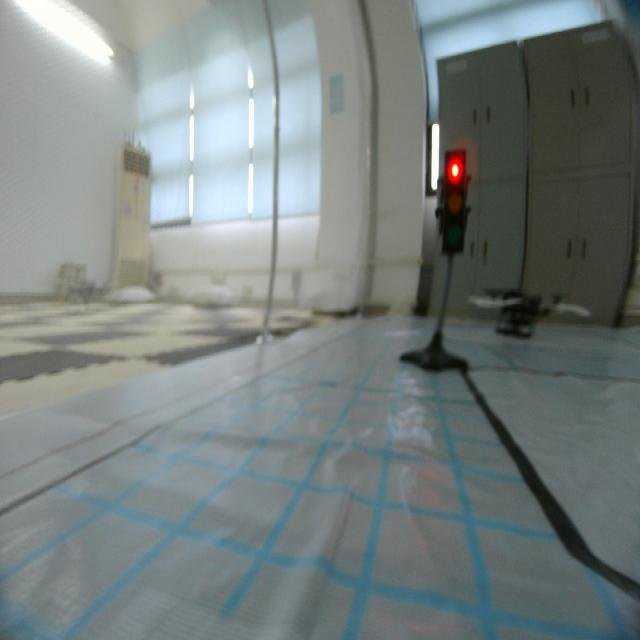red: (438, 148, 470, 262)
